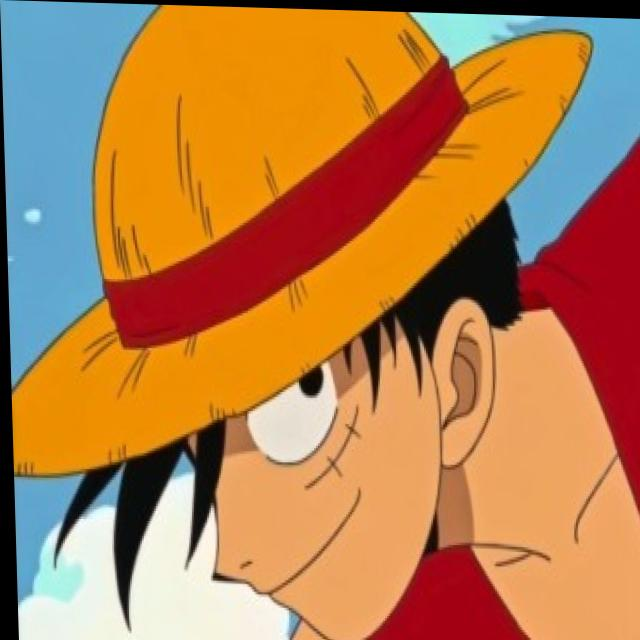Luffy: (0, 0, 564, 638)
